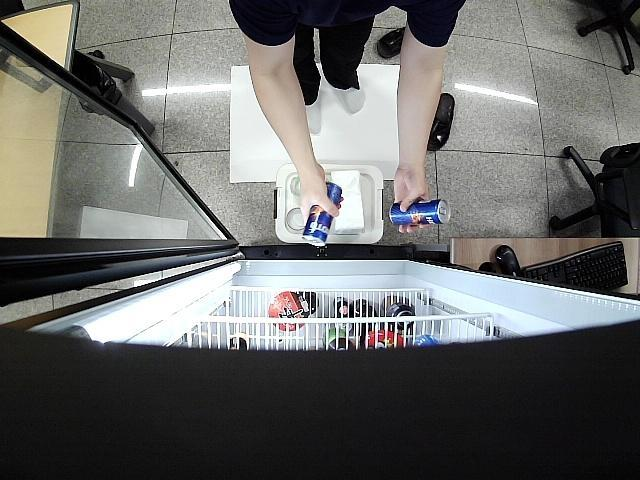16_hot6: (300, 182, 342, 248), (388, 200, 451, 226)
